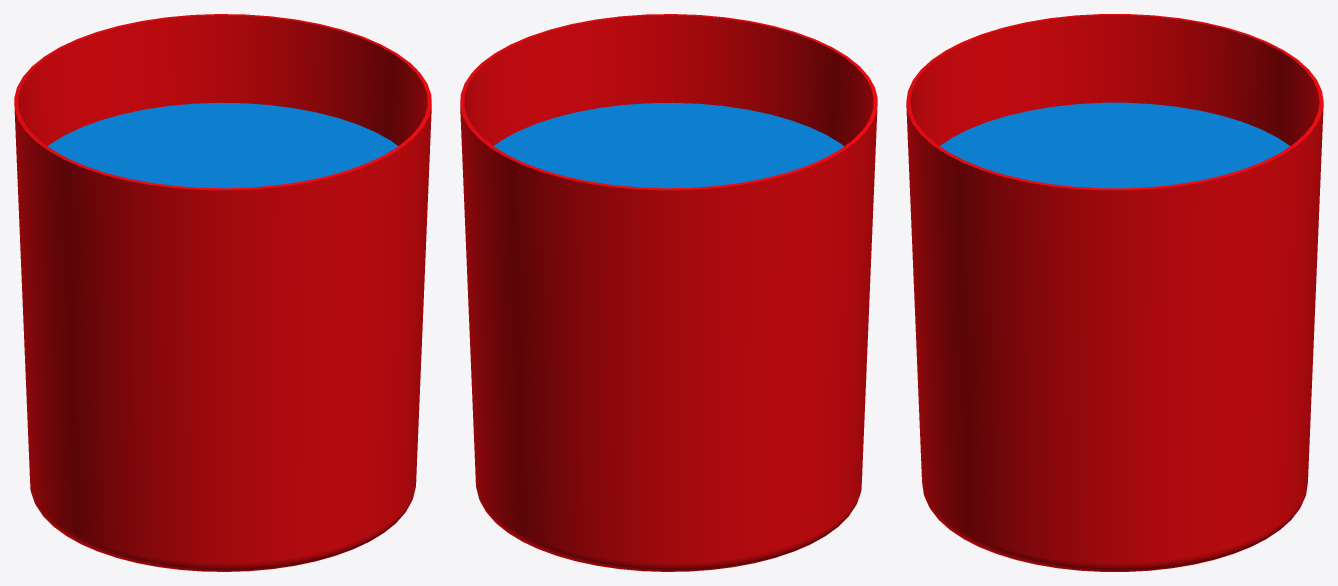
The model's file is Bucket.fbx.
3 views of the same model, side by side, from view 1: azimuth 30°, elevation 25°; view 2: azimuth 150°, elevation 25°; view 3: azimuth 270°, elevation 25° (orthographic).
Visible parts, largest first — view 1: Bucket; view 2: Bucket; view 3: Bucket.
Part boxes in pixels (x1,y1,x2,y2): Bucket: (14,14,431,571); Bucket: (460,14,877,571); Bucket: (906,14,1323,571).
Bounding box in the file's own units: 25 × 25 × 26.
